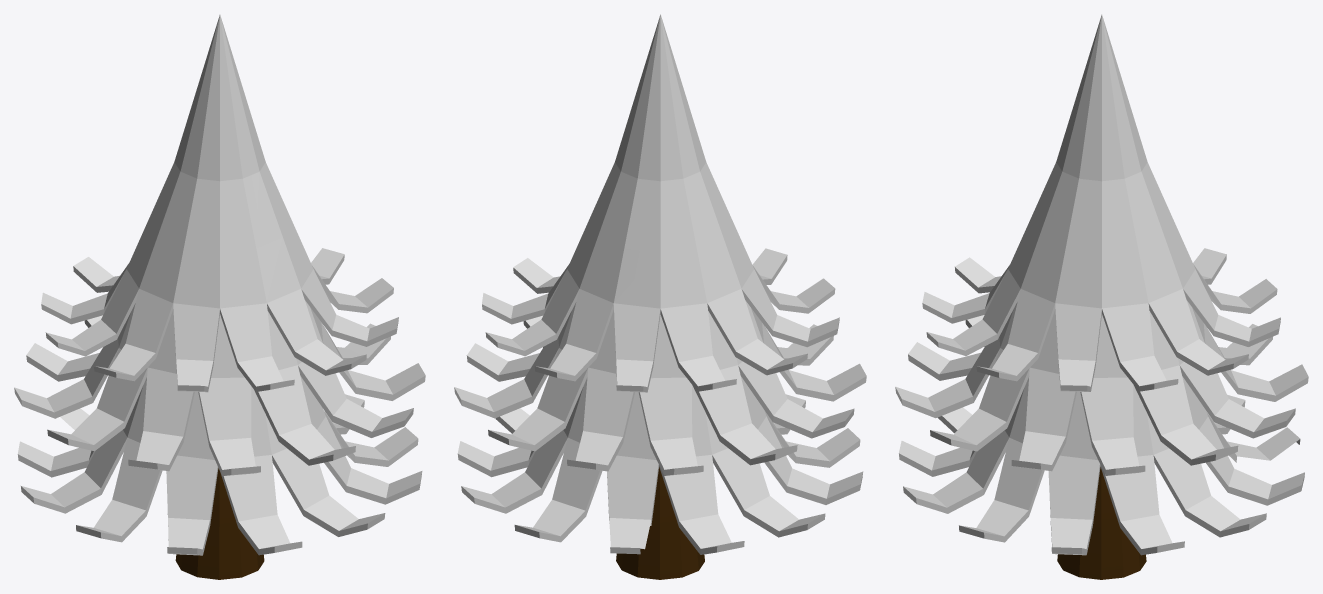
File: white_tree_snow.glb
The picture shows the model from 3 angles, left to right: view 1: azimuth 30°, elevation 25°; view 2: azimuth 150°, elevation 25°; view 3: azimuth 270°, elevation 25°; orthographic projection.
Parts seen in each view (by area): view 1: Tree08_White1_0, Tree08_Brown06_0; view 2: Tree08_White1_0, Tree08_Brown06_0; view 3: Tree08_White1_0, Tree08_Brown06_0.
Boxes of the visible parts, x1,y1,x2,y2 form: Tree08_White1_0: (14, 14, 425, 555); Tree08_Brown06_0: (175, 468, 264, 579); Tree08_White1_0: (454, 14, 866, 554); Tree08_Brown06_0: (616, 467, 704, 579); Tree08_White1_0: (895, 14, 1308, 555); Tree08_Brown06_0: (1057, 467, 1146, 579).
Bounding box in the file's own units: 6.61 × 9.68 × 6.63.
